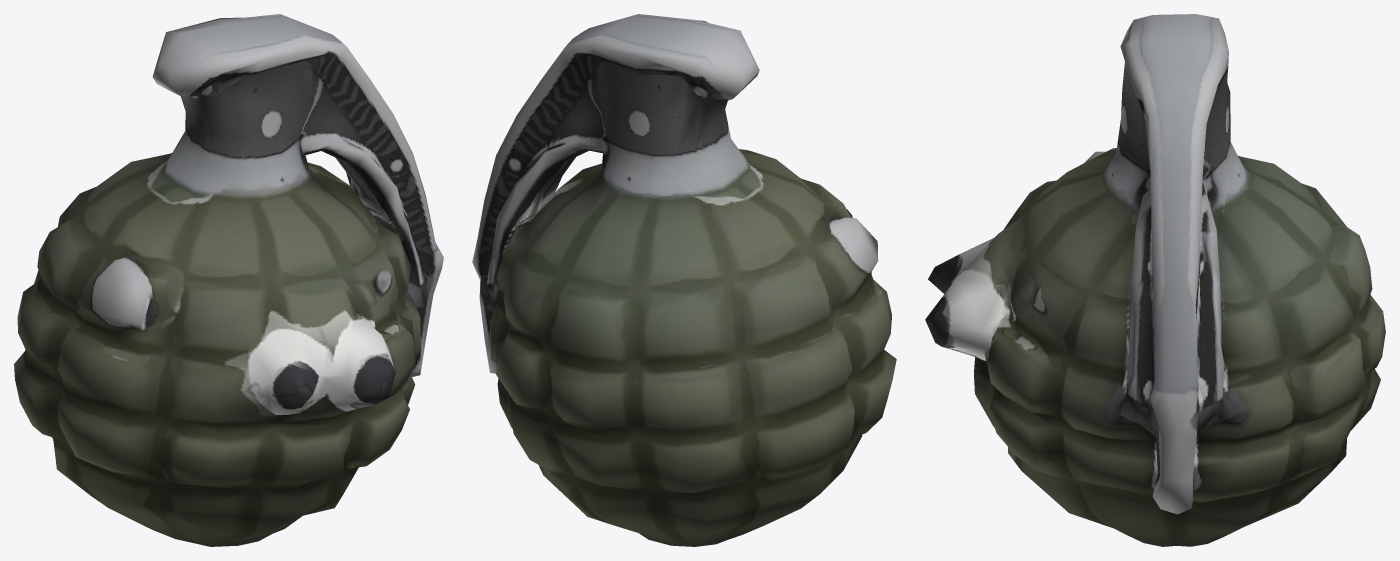
File: nade.glb
3 renders of one model, left to right at view 1: azimuth 30°, elevation 25°; view 2: azimuth 150°, elevation 25°; view 3: azimuth 270°, elevation 25°, orthographic.
Parts seen in each view (by area): view 1: tripo_node_c44f76c8-0d8a-4a6a-a053-3a4cec85706b; view 2: tripo_node_c44f76c8-0d8a-4a6a-a053-3a4cec85706b; view 3: tripo_node_c44f76c8-0d8a-4a6a-a053-3a4cec85706b.
Part boxes in pixels (x1,y1,x2,y2): tripo_node_c44f76c8-0d8a-4a6a-a053-3a4cec85706b: [14, 14, 443, 546]; tripo_node_c44f76c8-0d8a-4a6a-a053-3a4cec85706b: [472, 14, 896, 546]; tripo_node_c44f76c8-0d8a-4a6a-a053-3a4cec85706b: [925, 14, 1385, 546].
Size of the model in its own units: 0.8048 by 0.9754 by 0.8203.
1 material, 1 textured.
